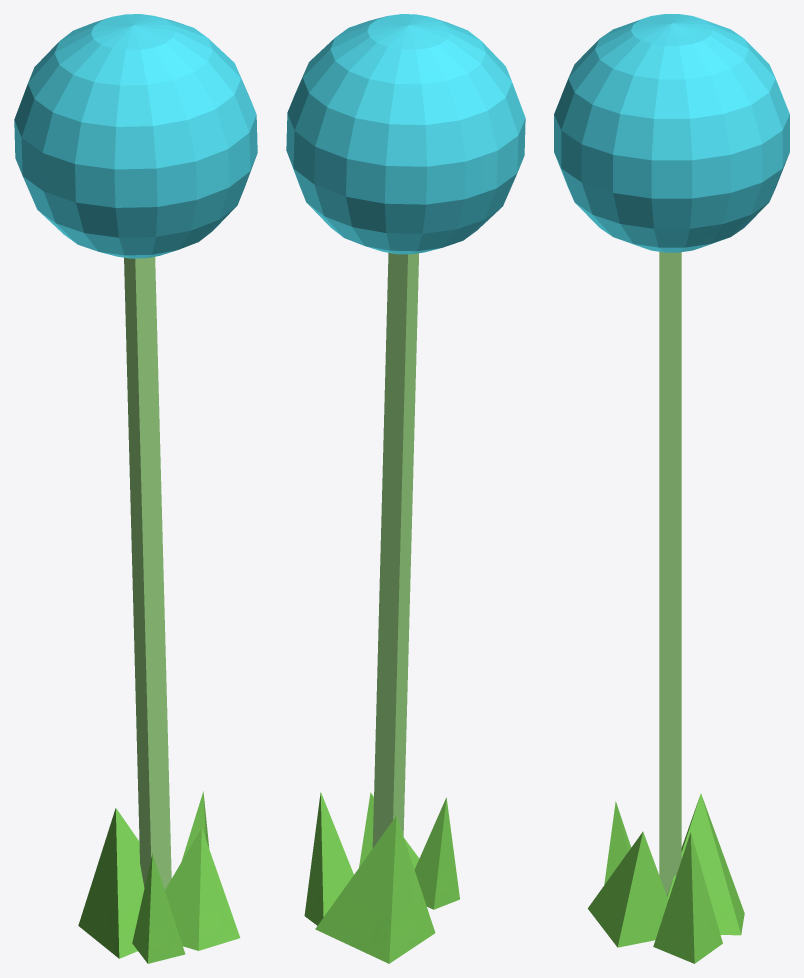
The model's file is 1fleurbleu.FBX.
3 views of the same model, side by side, from view 1: azimuth 30°, elevation 25°; view 2: azimuth 150°, elevation 25°; view 3: azimuth 270°, elevation 25° (orthographic). The views are drawn at different scales.
Visible parts, largest first — view 1: plante01; view 2: plante01; view 3: plante01.
Part boxes in pixels (x1,y1,x2,y2): plante01: (14, 14, 257, 963); plante01: (286, 14, 525, 963); plante01: (554, 14, 789, 963).
Size of the model in its own units: 10.47 by 44.46 by 10.58.
